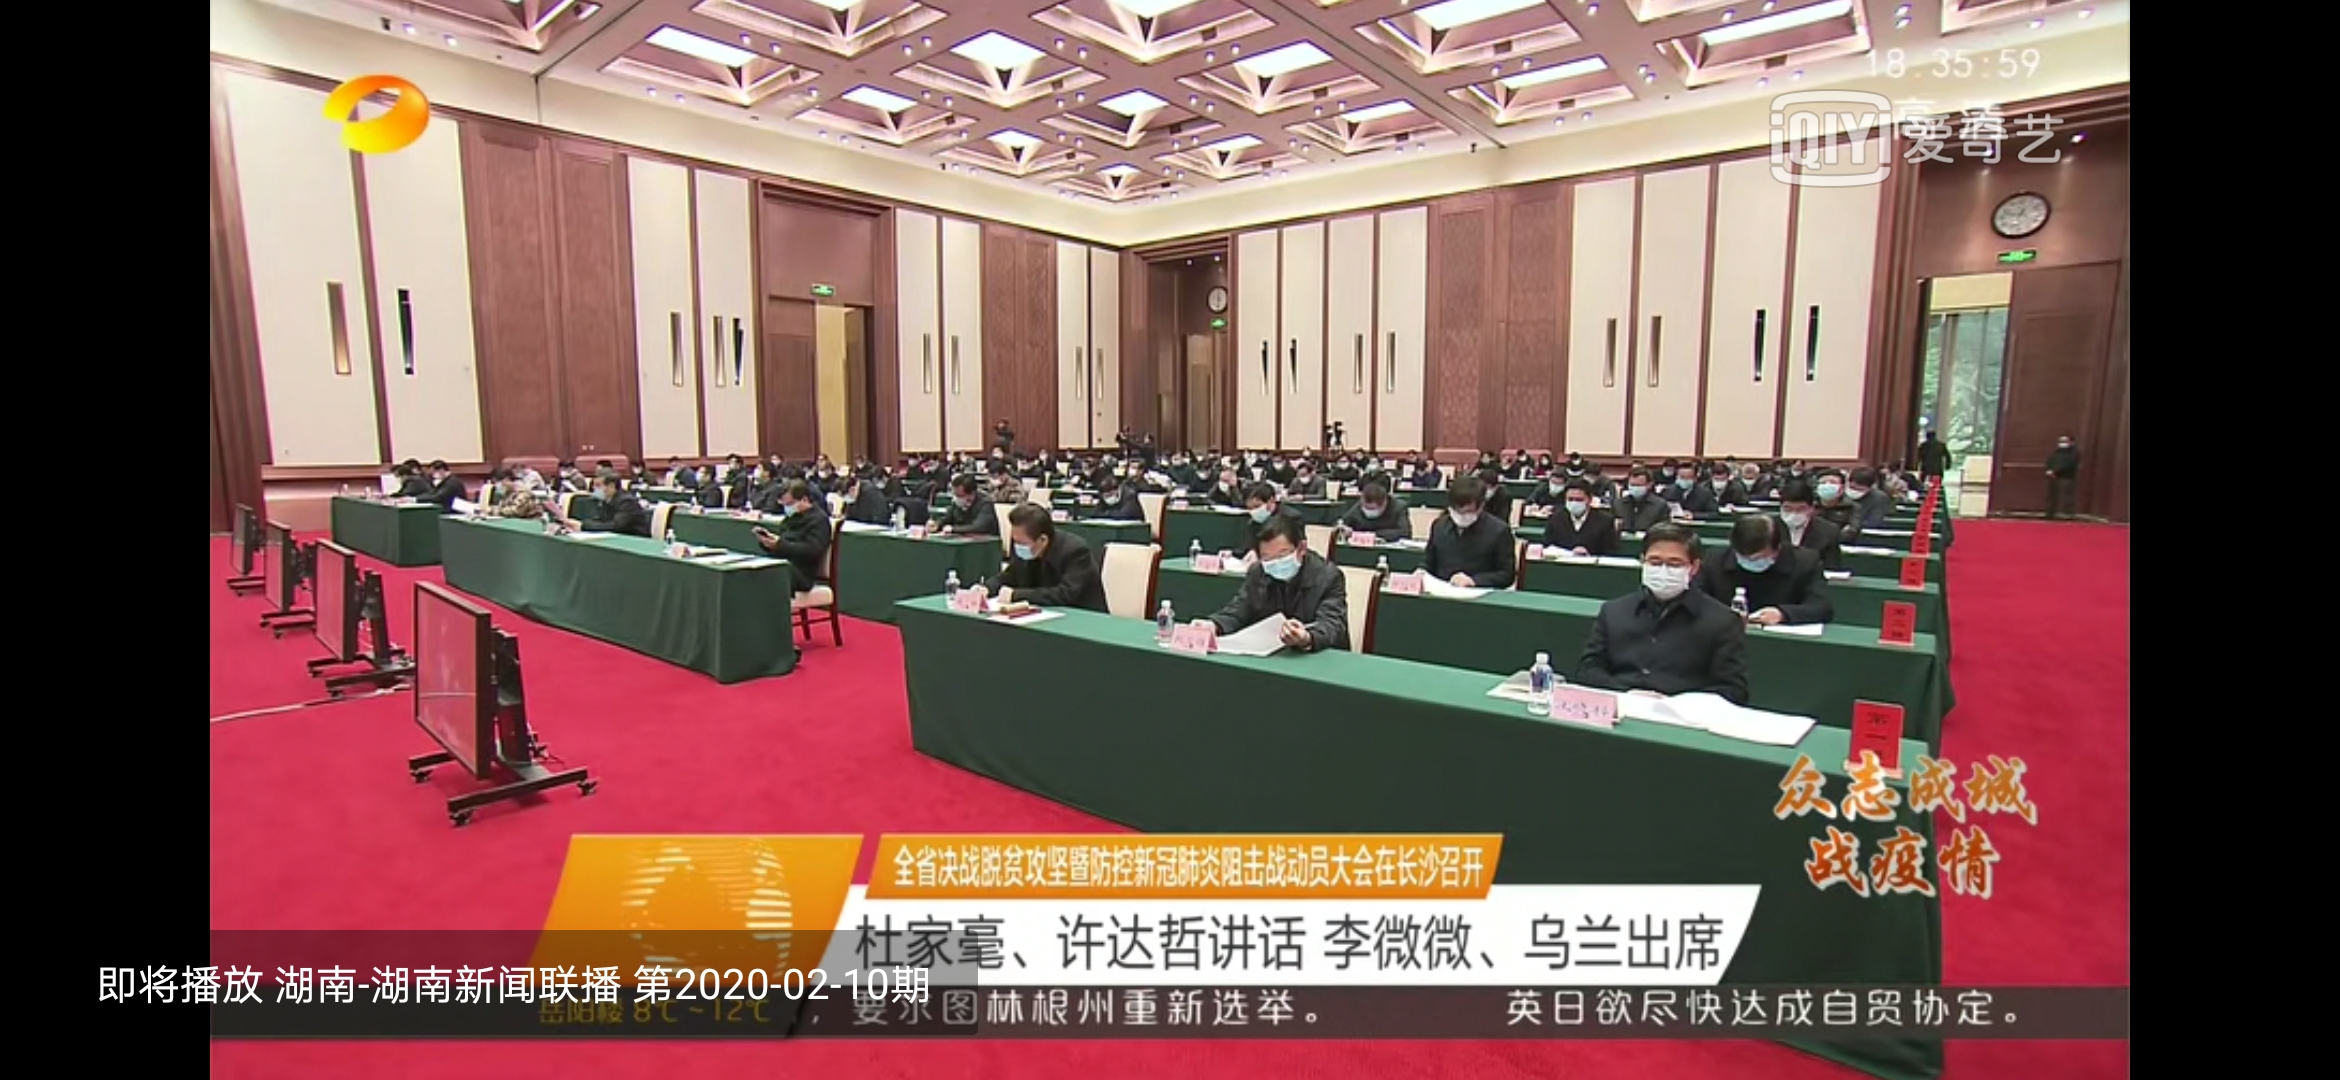correctlyWear: (1639, 547, 1698, 609), (1257, 539, 1307, 580), (1009, 528, 1054, 567), (1780, 501, 1813, 533), (1448, 503, 1482, 528), (1816, 476, 1845, 506), (1246, 497, 1274, 525), (780, 492, 809, 518), (1564, 488, 1589, 515), (1627, 474, 1651, 503), (1363, 495, 1386, 519), (1848, 479, 1870, 500), (952, 483, 970, 509), (592, 477, 610, 500), (1677, 468, 1695, 488), (1712, 470, 1730, 489), (1103, 483, 1119, 504), (989, 470, 1004, 486), (1549, 477, 1565, 492), (1218, 474, 1231, 492), (1743, 468, 1756, 485), (1298, 468, 1310, 483), (695, 468, 707, 482), (754, 465, 766, 479), (560, 464, 572, 477), (2058, 437, 2071, 449), (1130, 462, 1140, 477)
